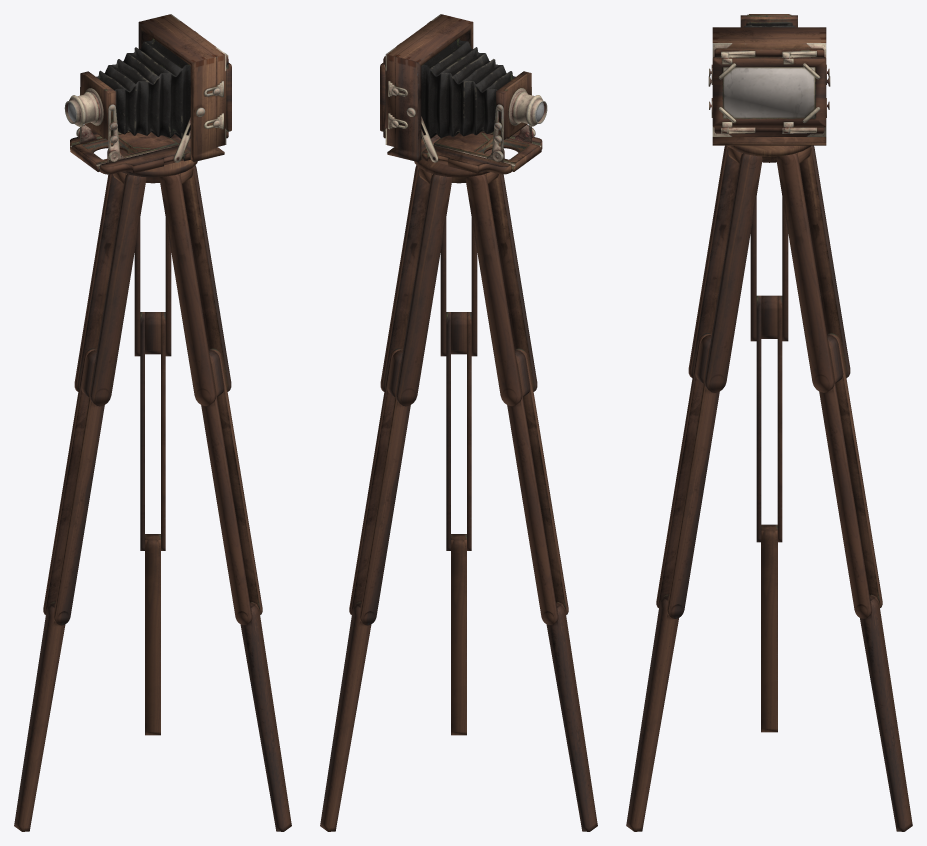
3 views of the same model, side by side, from view 1: azimuth 30°, elevation 25°; view 2: azimuth 150°, elevation 25°; view 3: azimuth 270°, elevation 25° (orthographic). The views are drawn at different scales.
Parts seen in each view (by area): view 1: layer1_lp.007, layer1_lp.005, layer4_lp, layer1_lp.008, layer1_lp.006; view 2: layer1_lp.008, layer1_lp.005, layer4_lp, layer1_lp.007, layer1_lp.006; view 3: layer1_lp.007, layer1_lp.008, layer4_lp, layer1_lp.005, layer1_lp.006.
Boxes of the visible parts, <box> form: layer1_lp.007: <box>159,165,291,831</box>; layer1_lp.005: <box>14,172,146,831</box>; layer4_lp: <box>64,14,231,174</box>; layer1_lp.008: <box>134,218,171,735</box>; layer1_lp.006: <box>107,149,197,183</box>; layer1_lp.008: <box>320,165,452,831</box>; layer1_lp.005: <box>465,172,597,831</box>; layer4_lp: <box>380,14,547,174</box>; layer1_lp.007: <box>440,218,477,735</box>; layer1_lp.006: <box>414,149,504,183</box>; layer1_lp.007: <box>626,145,762,831</box>; layer1_lp.008: <box>776,145,912,831</box>; layer4_lp: <box>708,14,830,145</box>; layer1_lp.005: <box>750,197,788,732</box>; layer1_lp.006: <box>728,145,810,162</box>.
Size of the model in its own units: 0.3671 by 1.27 by 0.4239.
2 materials, 2 textured.
